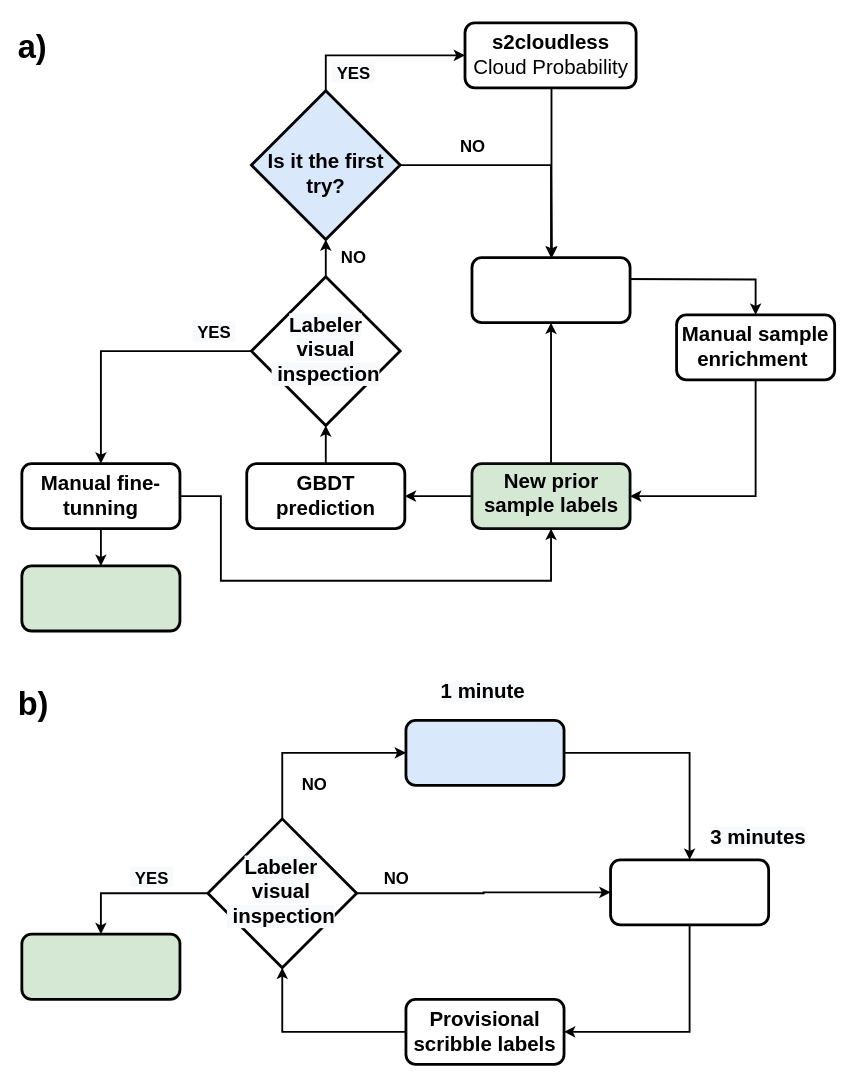
Image size: 852x1082. Some labels were removed from this diagram. Here are the shapes that lost their labels. From the top down, the centre of each, then its label:
At (x=550, y=290): "Prior sample labels".
At (x=100, y=598): "High-quality labeling result".
At (x=484, y=752): "Labeling at cloud center".
At (x=689, y=892): "Labeling at cloud egdes".
At (x=100, y=966): "Scribble labeling result".
